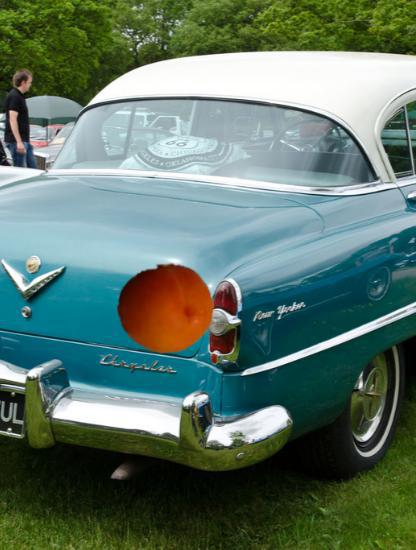Apricot: (117, 260, 215, 358)
